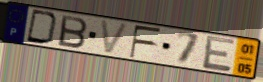7: (175, 30, 200, 66)
B: (57, 14, 90, 50)
D: (24, 8, 60, 46)
E: (201, 34, 237, 74)
F: (129, 24, 164, 60)
V: (98, 18, 131, 56)
